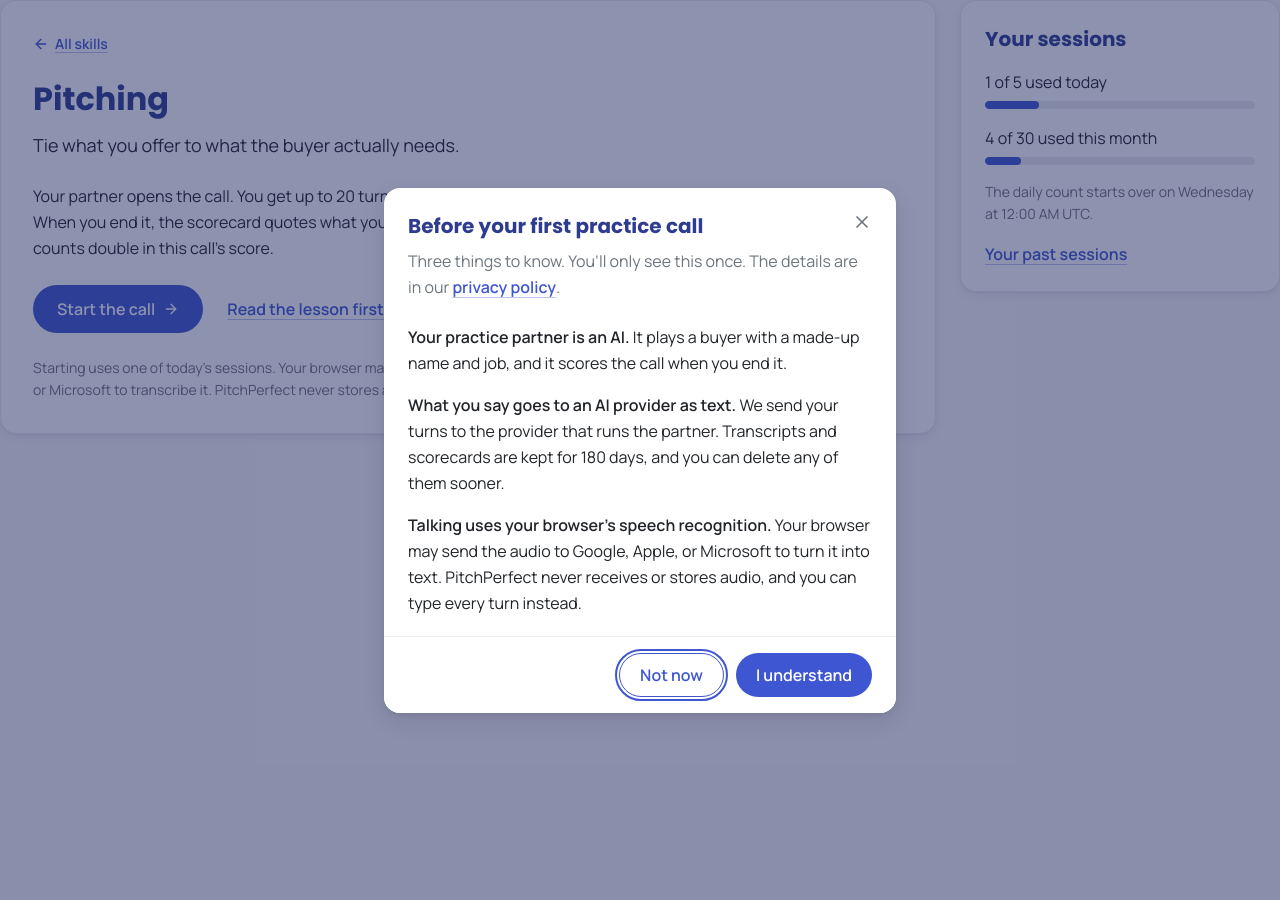
Test: ConsentDialog › blocks starting a session until the notice is accepted
The width and height of the screenshot is (1280, 900).
# The notice opens on its own the first time.
What coordinates should you click on to do the following:
click the button "Not now"
I would click on:
 (672, 674)
Its box is [619,652,724,696].
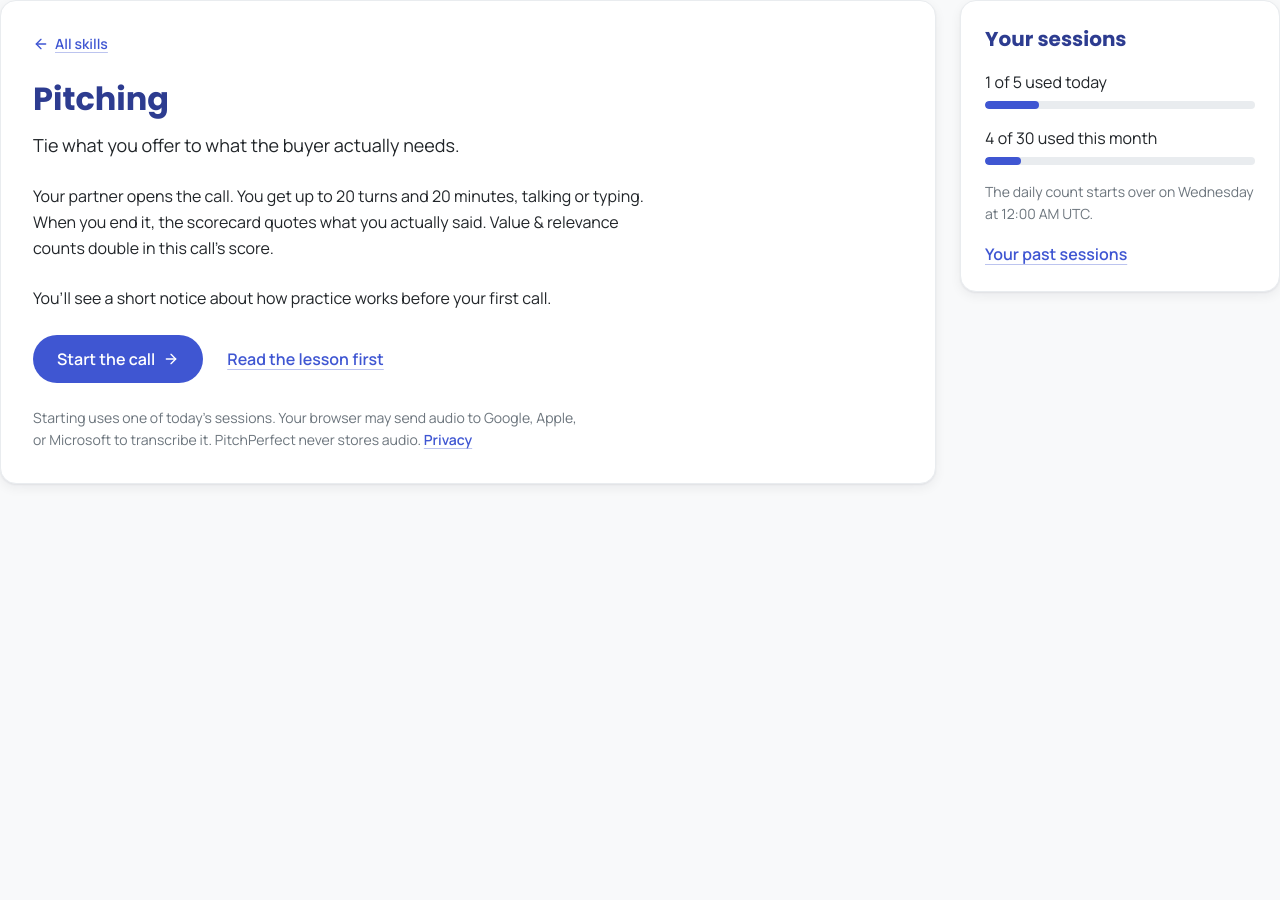
What coordinates should you click on to do the following:
click the button "Start the call"
I would click on:
 (118, 359)
Its box is [33,335,203,383].
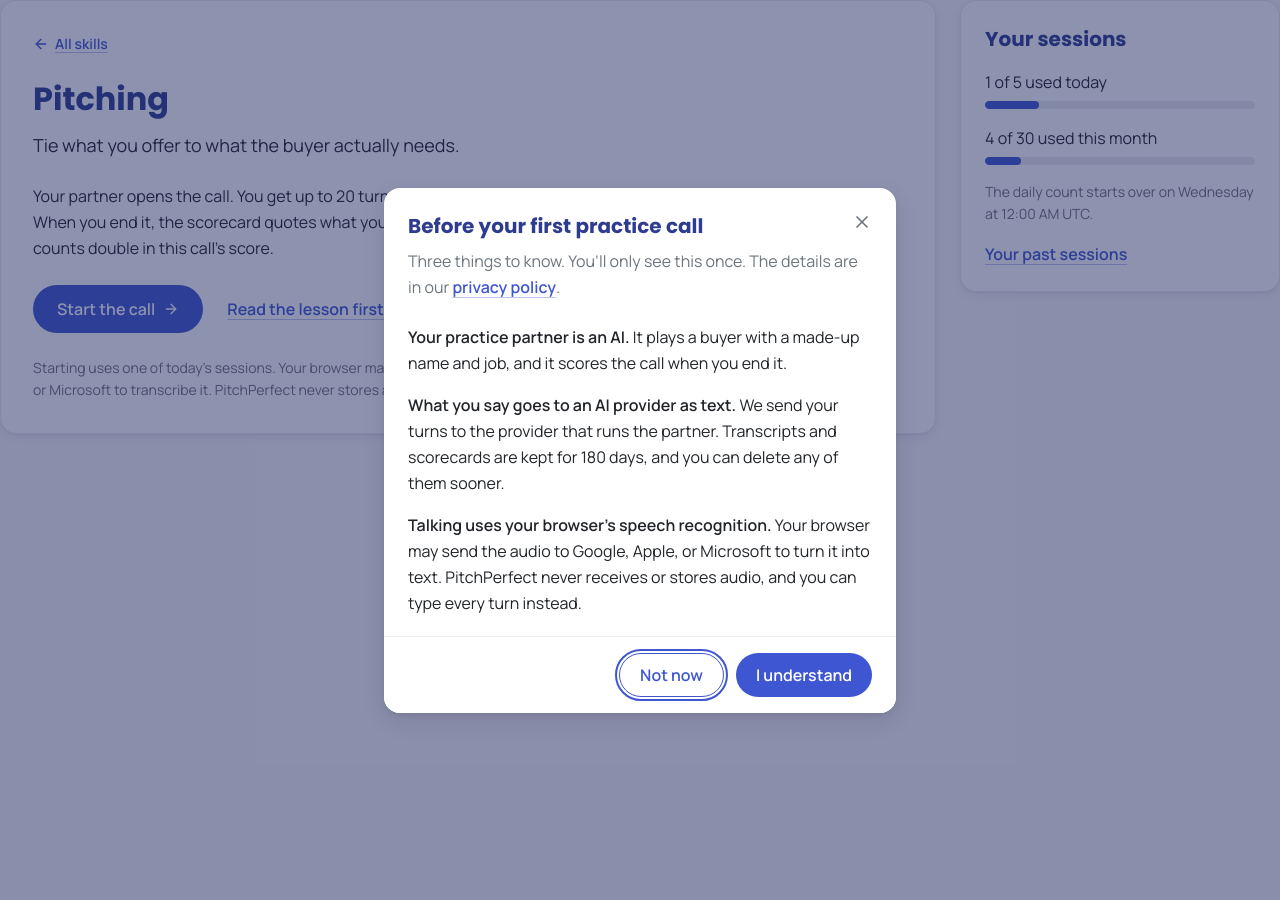
Check: the dialog "Before your first practice call" is shown, box [384,188,896,712]
What coordinates should you click on to do the following:
click the button "I understand"
I would click on:
 (804, 674)
Its box is [736,652,872,696].
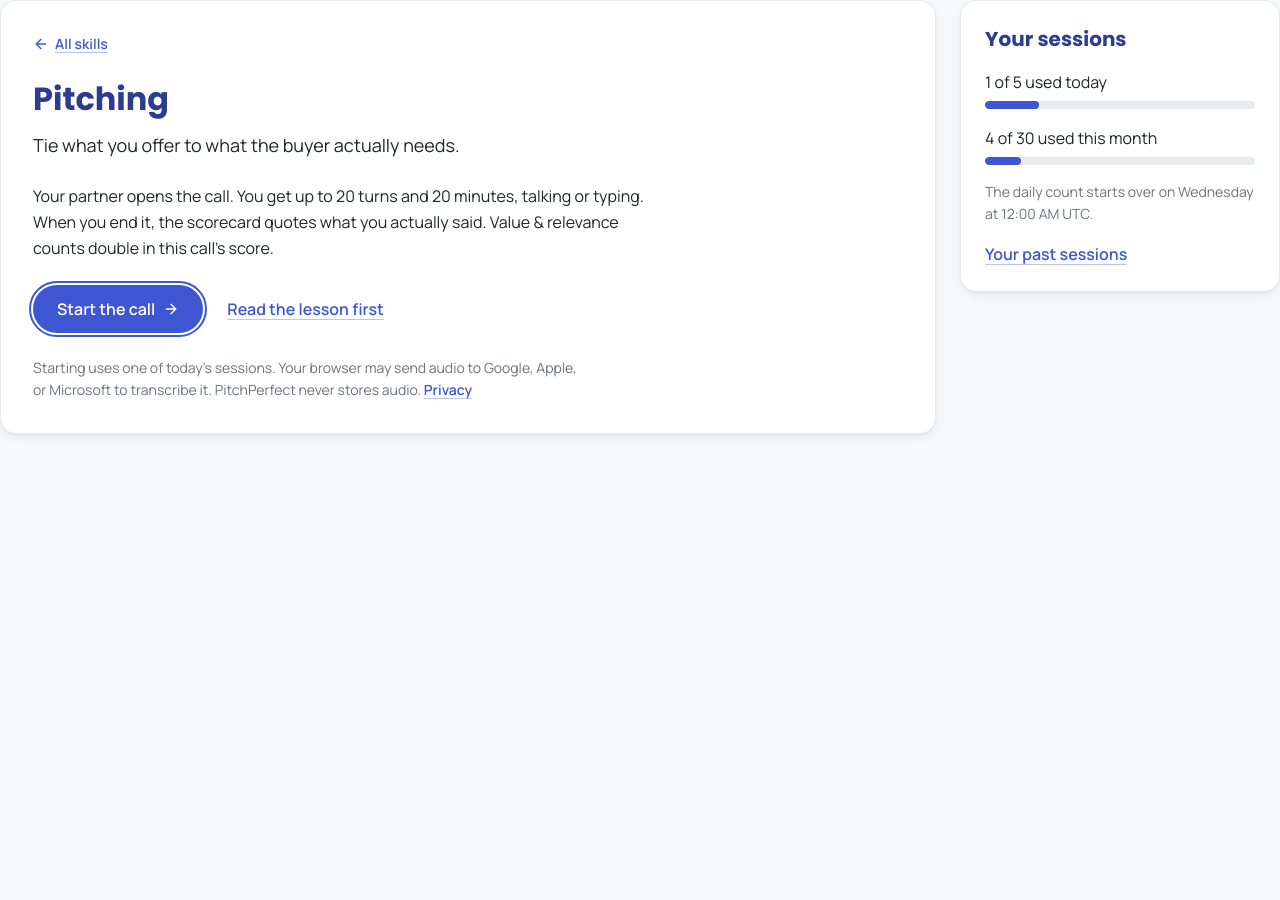
Check: the dialog is gone
What coordinates should you click on to do the following:
click the button "Start the call"
I would click on:
 (118, 309)
Its box is [33,285,203,333].
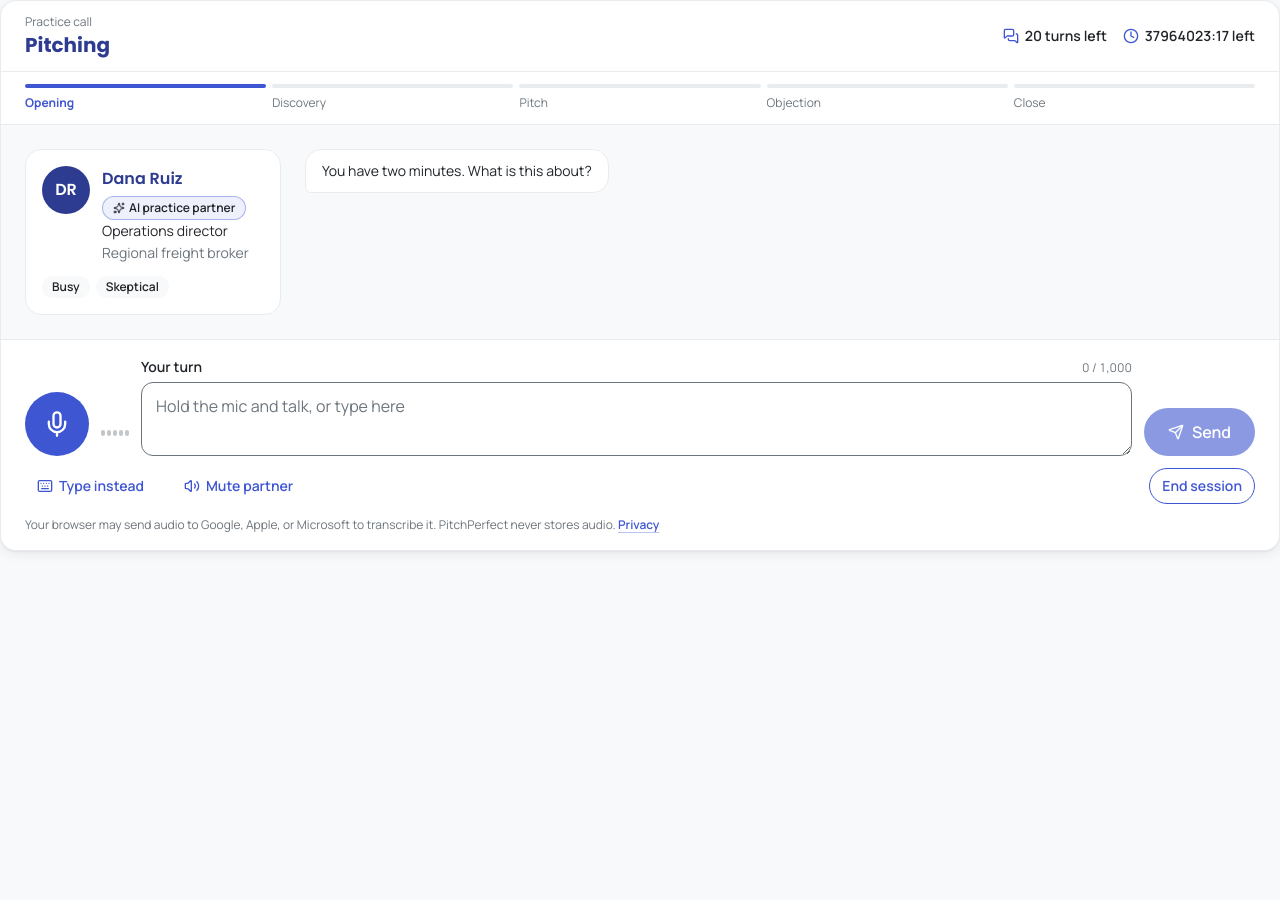
Check: the element "Dana Ruiz" is shown, box [25,149,281,315]
